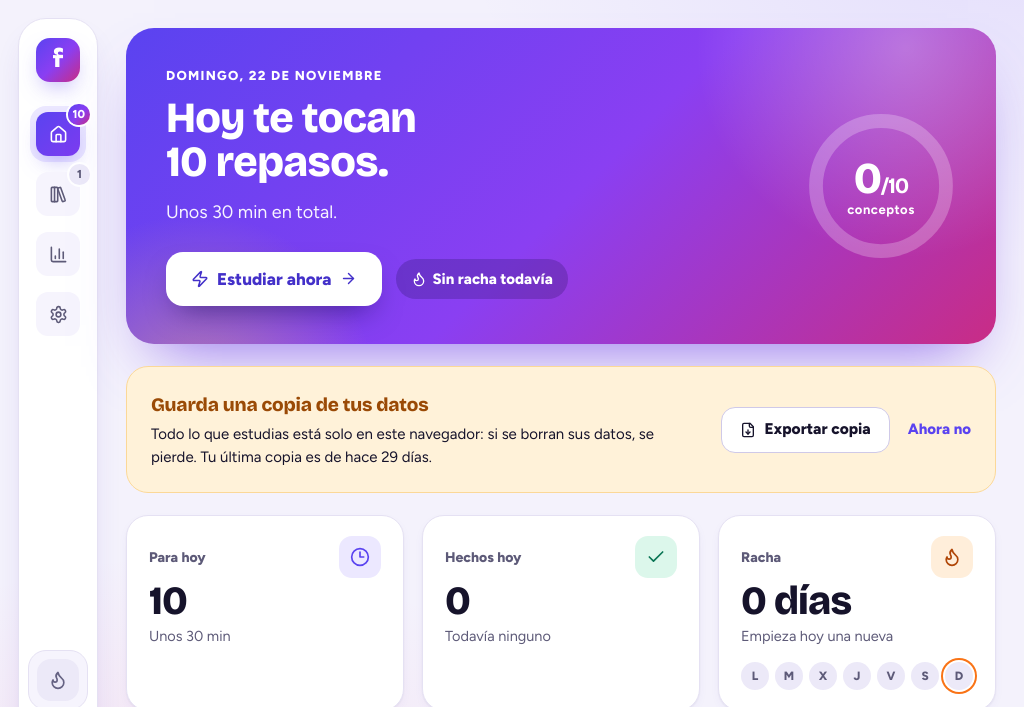
Test case: copia de seguridad y ajustes › exportar anota la fecha de la copia y el recordatorio desaparece
The image size is (1024, 707).
Click the button "Exportar copia" at [806, 430], box [721,407,890,453]
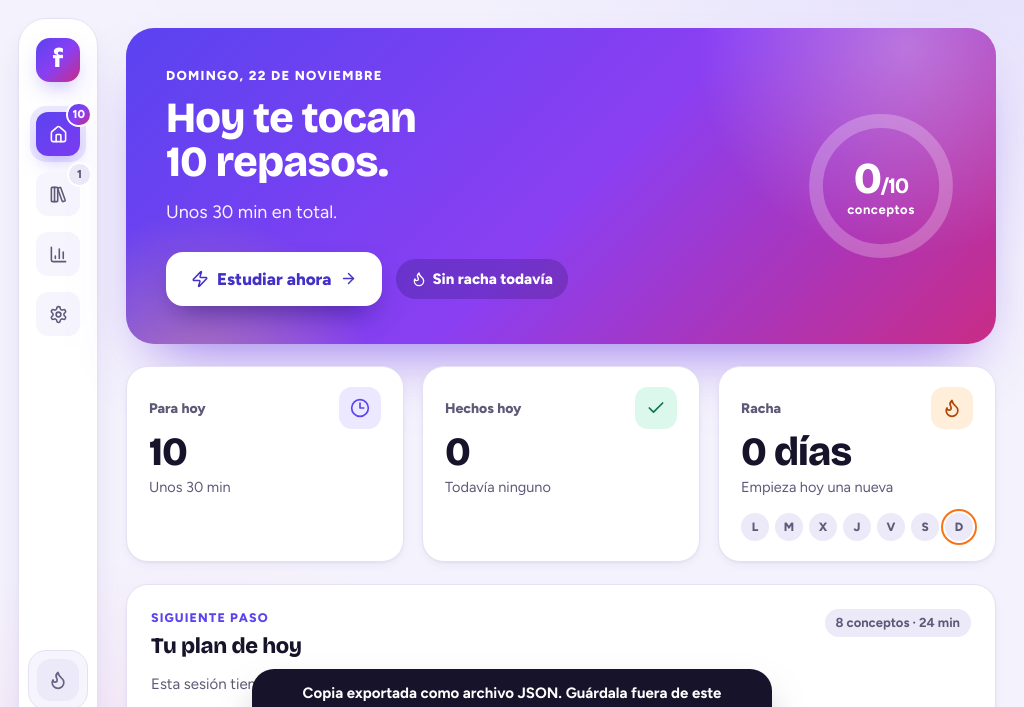
Expected: the text "Guarda una copia de tus datos" is gone
